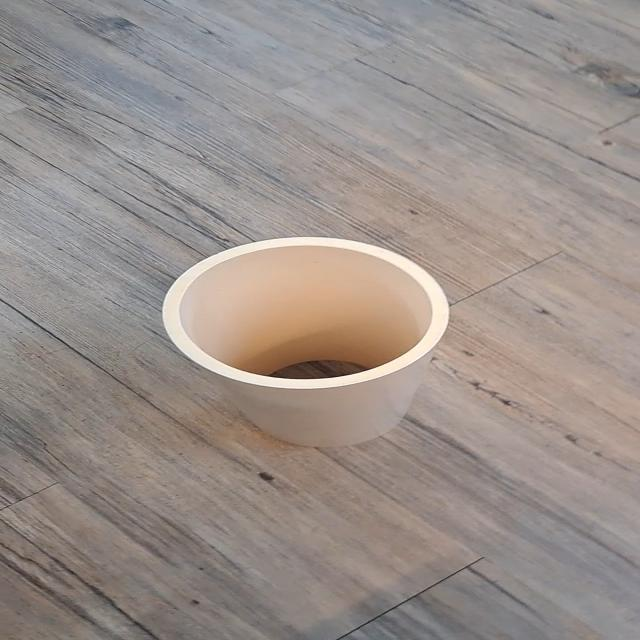CORAL: (131, 227, 471, 462)
